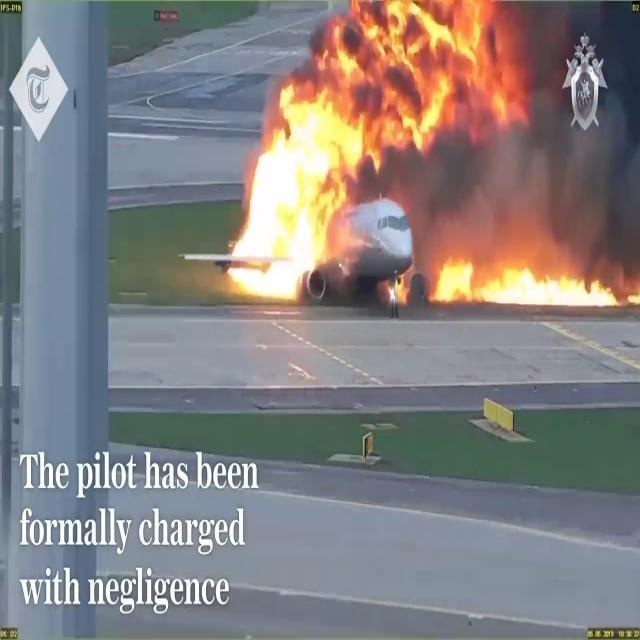Fire: (224, 13, 407, 296), (422, 240, 638, 314)
Smoke: (409, 1, 640, 256)
